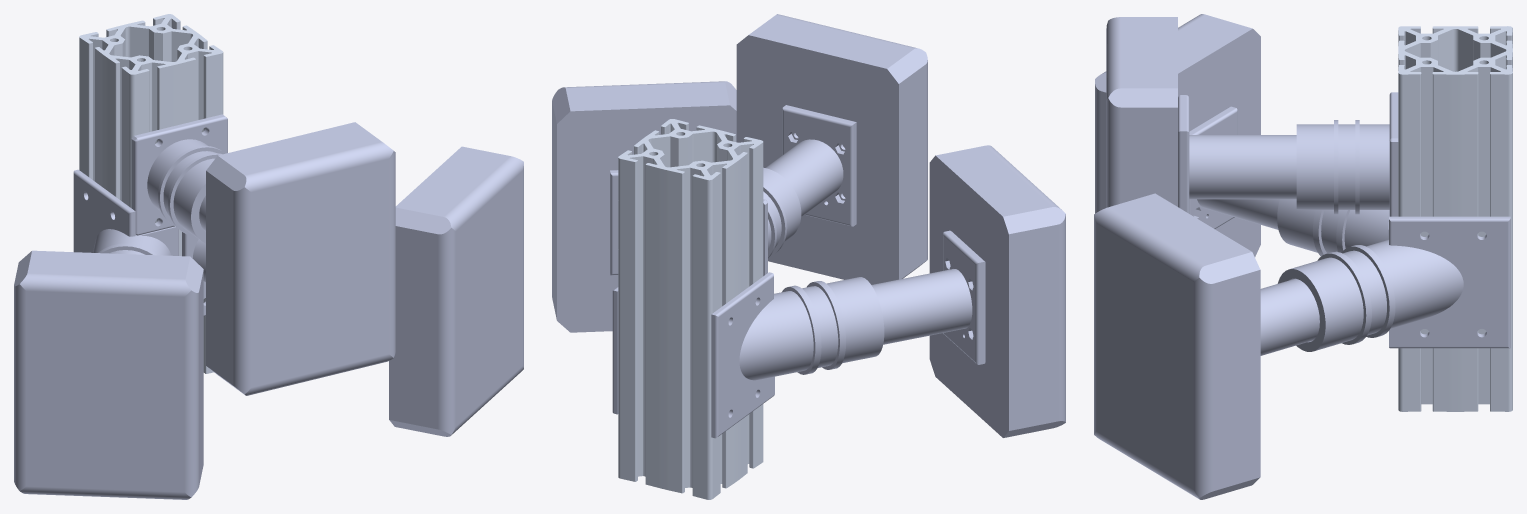
Rendered from iteration_4_final.glb.
3 renders of one model, left to right at view 1: azimuth 30°, elevation 25°; view 2: azimuth 150°, elevation 25°; view 3: azimuth 270°, elevation 25°, orthographic. The views are drawn at different scales.
Parts seen in each view (by area): view 1: foam-2, foam-1, Mirrorfoam-4, Final Iteration Foam Mounts, spring_mount_iteration_5-1, spring_side_mount_iteration_4-1, Mirrorspring_side_mount_iteration_4-3; view 2: Final Iteration Foam Mounts, foam-1, foam-2, Mirrorfoam-4, spring_side_mount_iteration_4-1, foam_mount_iteration_4-3, foam_mount_iteration_4-1, spring_mount_iteration_5-1, Mirrorfoam_mount_iteration_4-5, Mirrorspring_side_mount_iteration_4-3; view 3: Mirrorfoam-4, Final Iteration Foam Mounts, Mirrorspring_side_mount_iteration_4-3, foam-1, foam-2, spring_mount_iteration_5-1, foam_mount_iteration_4-1, spring_side_mount_iteration_4-1, Mirrorfoam_mount_iteration_4-5, foam_mount_iteration_4-3.
Part boxes in pixels (x1=…): foam-2: x1=14, y1=250, x2=203, y2=499; foam-1: x1=206, y1=122, x2=395, y2=395; Mirrorfoam-4: x1=389, y1=146, x2=523, y2=436; Final Iteration Foam Mounts: x1=79, y1=14, x2=223, y2=373; spring_mount_iteration_5-1: x1=131, y1=114, x2=227, y2=243; spring_side_mount_iteration_4-1: x1=73, y1=169, x2=178, y2=255; Mirrorspring_side_mount_iteration_4-3: x1=182, y1=232, x2=205, y2=316; Final Iteration Foam Mounts: x1=618, y1=119, x2=763, y2=499; foam-1: x1=736, y1=14, x2=927, y2=284; foam-2: x1=929, y1=145, x2=1065, y2=437; Mirrorfoam-4: x1=552, y1=81, x2=736, y2=332; spring_side_mount_iteration_4-1: x1=711, y1=272, x2=884, y2=438; foam_mount_iteration_4-3: x1=871, y1=230, x2=985, y2=364; foam_mount_iteration_4-1: x1=765, y1=105, x2=856, y2=226; spring_mount_iteration_5-1: x1=763, y1=167, x2=801, y2=275; Mirrorfoam_mount_iteration_4-5: x1=610, y1=170, x2=618, y2=275; Mirrorspring_side_mount_iteration_4-3: x1=612, y1=287, x2=618, y2=414; Mirrorfoam-4: x1=1094, y1=193, x2=1260, y2=499; Final Iteration Foam Mounts: x1=1398, y1=26, x2=1512, y2=411; Mirrorspring_side_mount_iteration_4-3: x1=1277, y1=216, x2=1510, y2=351; foam-1: x1=1106, y1=17, x2=1177, y2=207; foam-2: x1=1095, y1=14, x2=1260, y2=256; spring_mount_iteration_5-1: x1=1296, y1=92, x2=1398, y2=216; foam_mount_iteration_4-1: x1=1178, y1=95, x2=1296, y2=213; spring_side_mount_iteration_4-1: x1=1277, y1=199, x2=1389, y2=256; Mirrorfoam_mount_iteration_4-5: x1=1260, y1=278, x2=1319, y2=355; foam_mount_iteration_4-3: x1=1189, y1=106, x2=1279, y2=229.
Size of the model in its own units: 0.4342 by 0.26 by 0.2925.
